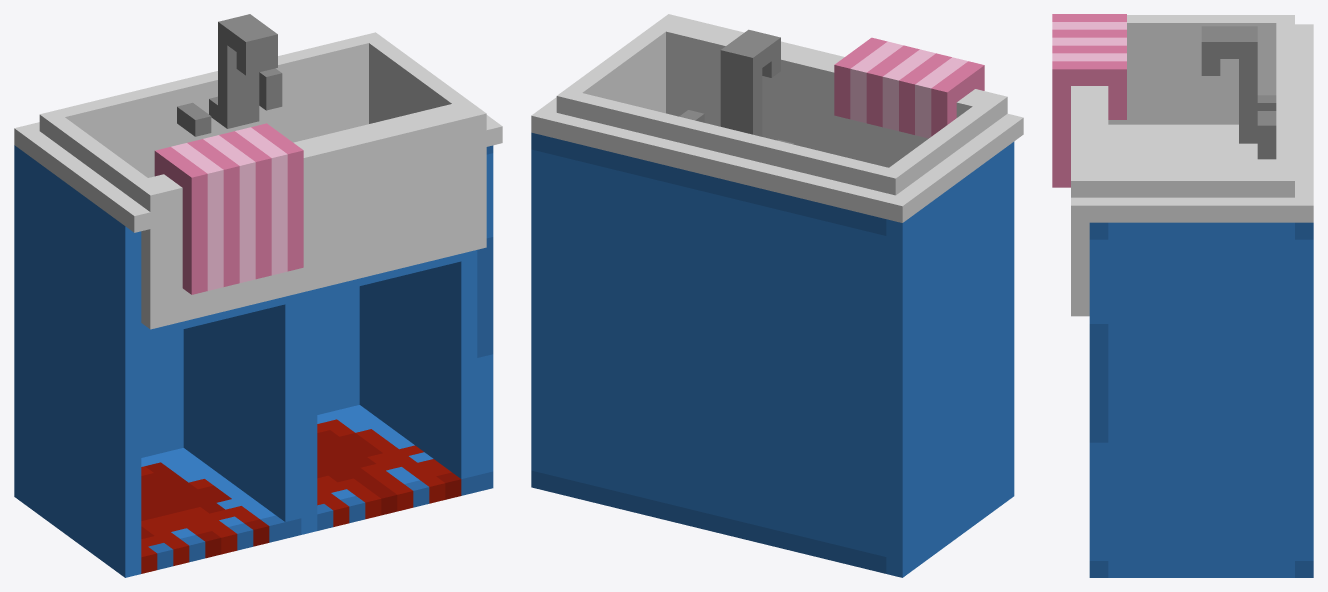
File: Kitchen_cabinets-1.obj
3 views of the same model, side by side, from view 1: azimuth 30°, elevation 25°; view 2: azimuth 150°, elevation 25°; view 3: azimuth 270°, elevation 25° (orthographic).
Bounding box in the file's own units: 2.3 × 2.7 × 1.4.
1 material, 1 textured.
